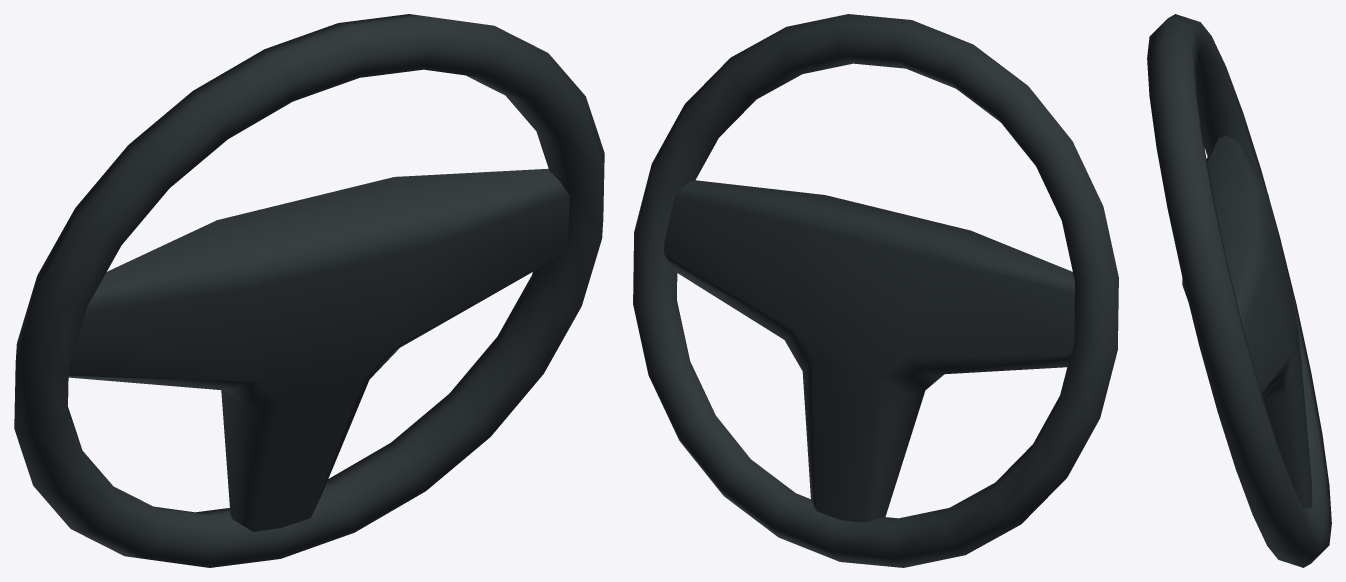
Rendered from Apocalypse_Car_01_SteeringWheel.fbx.
3 renders of one model, left to right at view 1: azimuth 30°, elevation 25°; view 2: azimuth 150°, elevation 25°; view 3: azimuth 270°, elevation 25°, orthographic. The views are drawn at different scales.
Parts seen in each view (by area): view 1: Apocalypse_Car_01_SteeringWheel; view 2: Apocalypse_Car_01_SteeringWheel; view 3: Apocalypse_Car_01_SteeringWheel.
Part boxes in pixels (x1,y1,x2,y2): Apocalypse_Car_01_SteeringWheel: (14, 14, 604, 567); Apocalypse_Car_01_SteeringWheel: (633, 14, 1118, 567); Apocalypse_Car_01_SteeringWheel: (1147, 14, 1331, 567).
Size of the model in its own units: 42.12 by 13.62 by 40.68.
